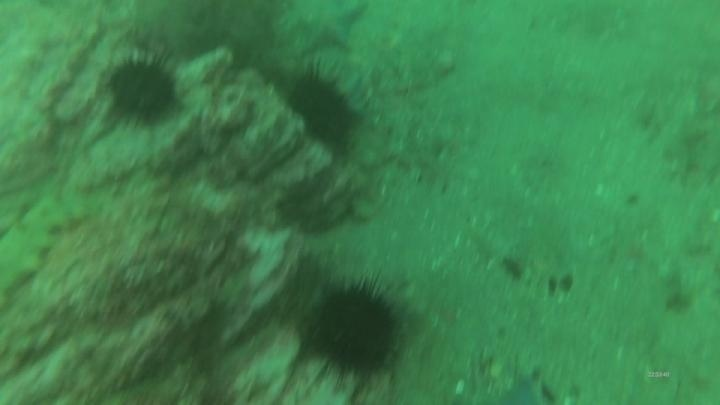echinus: (300, 275, 409, 387), (101, 48, 184, 130), (283, 64, 361, 151)
holothurian: (0, 190, 86, 306)
starfish: (284, 1, 370, 57), (493, 365, 550, 404)
